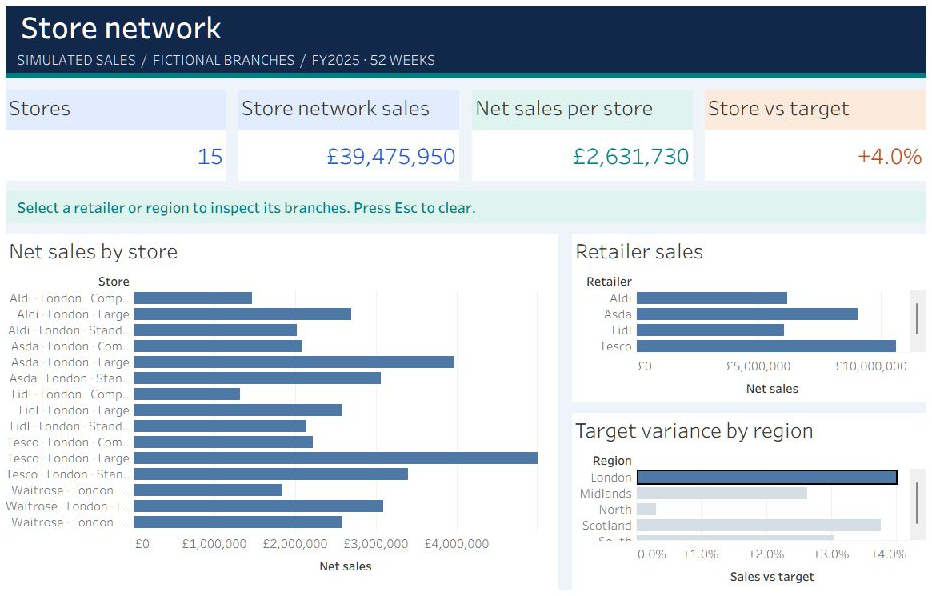

The page's visual inventory and layout, read from the dashboard file:
{"tool":"tableau","page":{"name":"Store network","canvas":[1150,730],"ordinal":1},"visuals":[{"type":"text","box":[16.1,13.1,1117.8,48.2]},{"type":"text","box":[16.1,61.3,1117.8,31.4]},{"type":"text","box":[16.1,92.7,1117.8,5.8]},{"type":"worksheet","title":"Stores","mark":"Text","box":[16.1,113.2,268.2,108]},{"type":"worksheet","title":"Store network sales","mark":"Text","box":[299.3,113.2,268.2,108]},{"type":"worksheet","title":"Net sales per store","mark":"Text","box":[582.5,113.2,268.2,108]},{"type":"worksheet","title":"Store vs target","mark":"Text","box":[865.7,113.2,268.2,108]},{"type":"text","box":[16.1,233.6,1117.8,38]},{"type":"worksheet","title":"Net sales by store","mark":"Bar","rows":["store"],"cols":["NetSales"],"box":[16.1,284.7,670.5,425.6]},{"type":"worksheet","title":"Retailer sales","mark":"Bar","rows":["retailer"],"cols":["NetSales"],"box":[703.8,284.7,430.1,201.5]},{"type":"worksheet","title":"Target variance by region","mark":"Bar","rows":["region"],"cols":["VsTarget"],"box":[703.8,498.6,430.1,211.7]}]}

Visuals, with their boxes in screenshot pixels (x1, y1, x2, y2), scaled from the page's 1150x730 canvas onto the 932x596 screenshot:
text: bbox=[13, 11, 919, 50]
text: bbox=[13, 50, 919, 76]
text: bbox=[13, 76, 919, 80]
"Stores" worksheet (Text marks): bbox=[13, 92, 230, 181]
"Store network sales" worksheet (Text marks): bbox=[243, 92, 460, 181]
"Net sales per store" worksheet (Text marks): bbox=[472, 92, 689, 181]
"Store vs target" worksheet (Text marks): bbox=[702, 92, 919, 181]
text: bbox=[13, 191, 919, 222]
"Net sales by store" worksheet (Bar marks): bbox=[13, 232, 556, 580]
"Retailer sales" worksheet (Bar marks): bbox=[570, 232, 919, 397]
"Target variance by region" worksheet (Bar marks): bbox=[570, 407, 919, 580]
